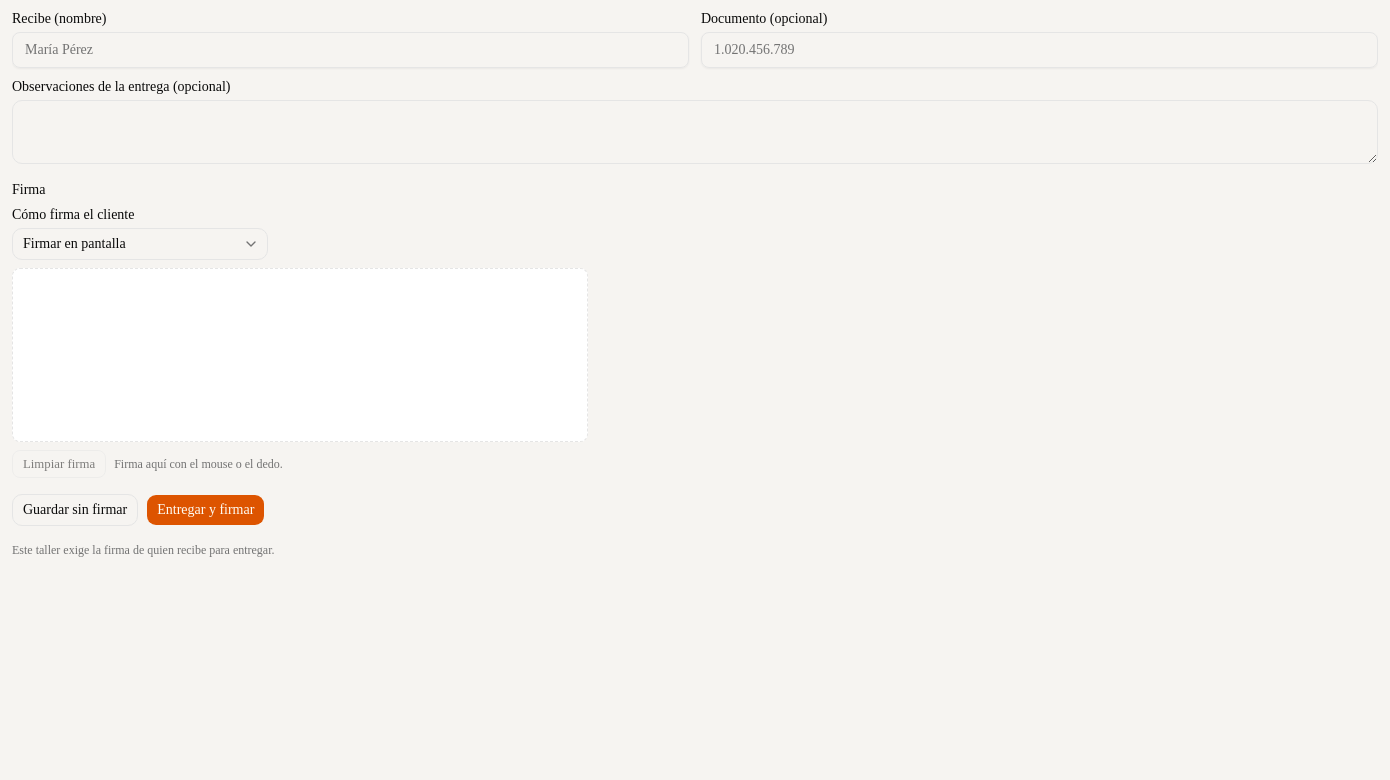
ActaEntregaForm › muestra el error de la action (por ejemplo, si falta la firma)
The width and height of the screenshot is (1390, 780).
Click the button "Entregar y firmar": click(206, 510) [146,494,265,526]
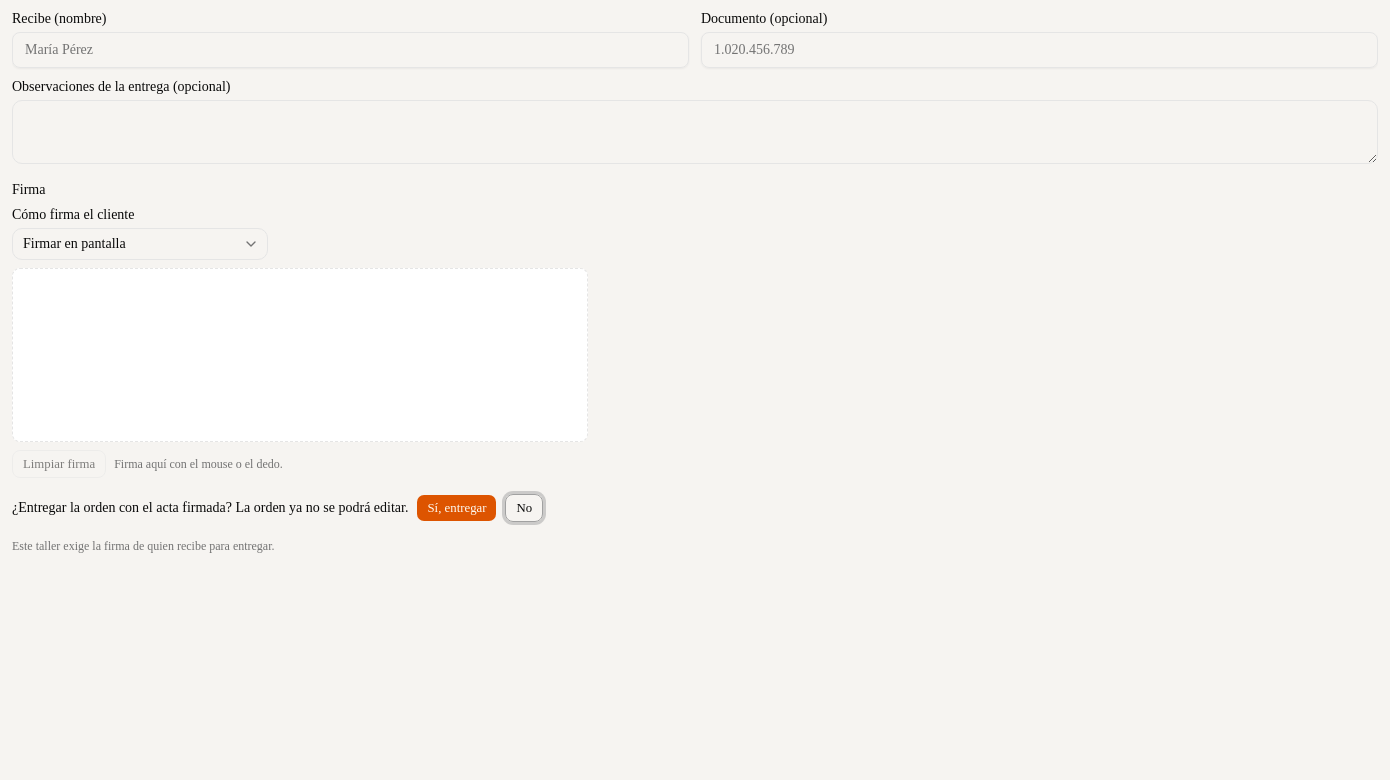
Click the button "Sí, entregar": click(457, 508) [416,494,498,522]
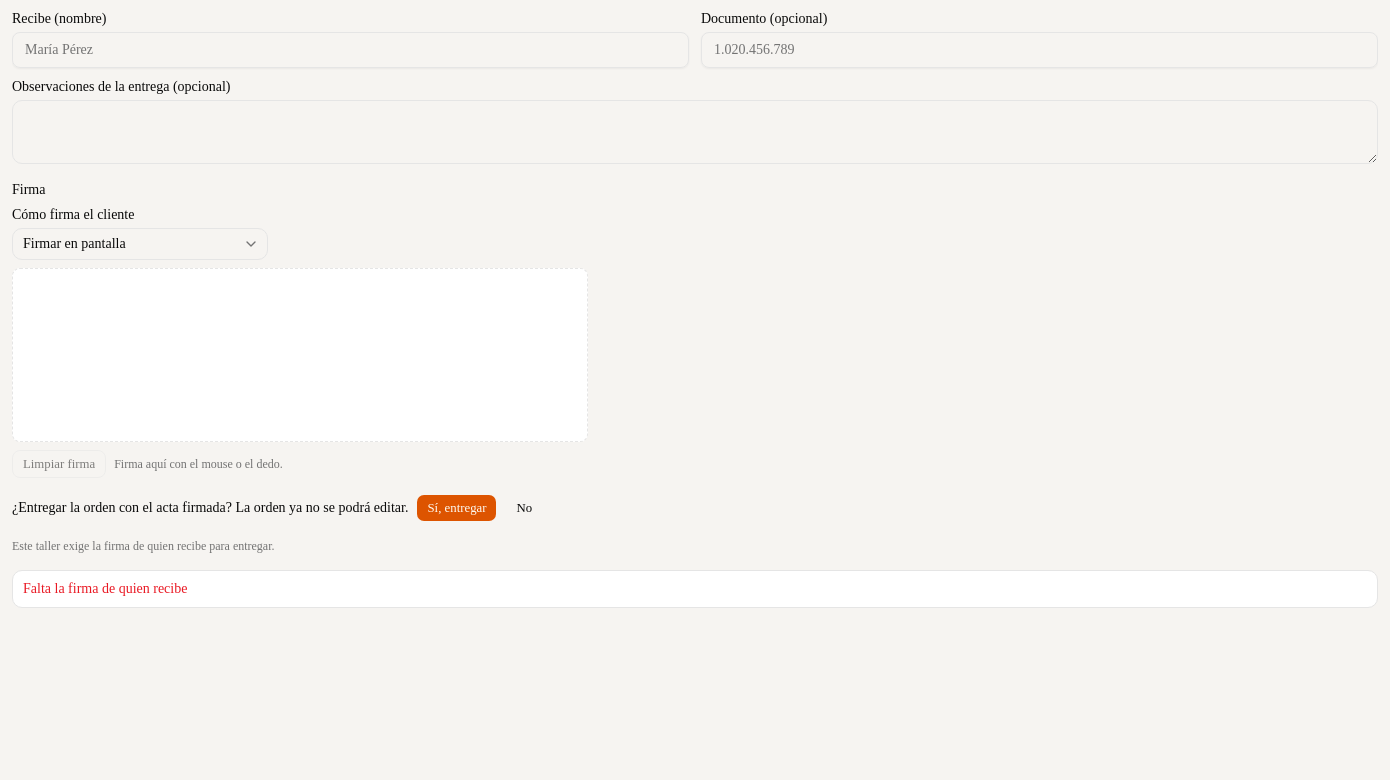
expect the message reads "Falta la firma de quien recibe": met, box [23,581,187,596]
